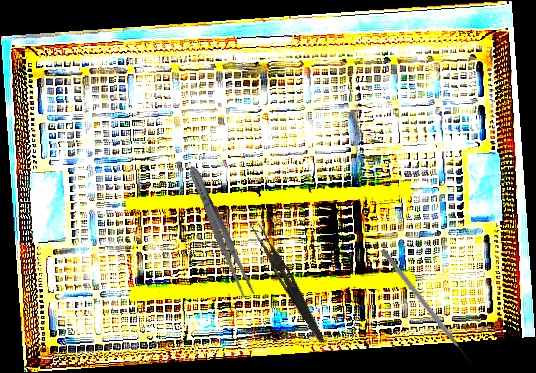Dressing Forceps: (183, 162, 258, 301), (247, 222, 331, 345)
Hook Surgical: (379, 247, 475, 368)
